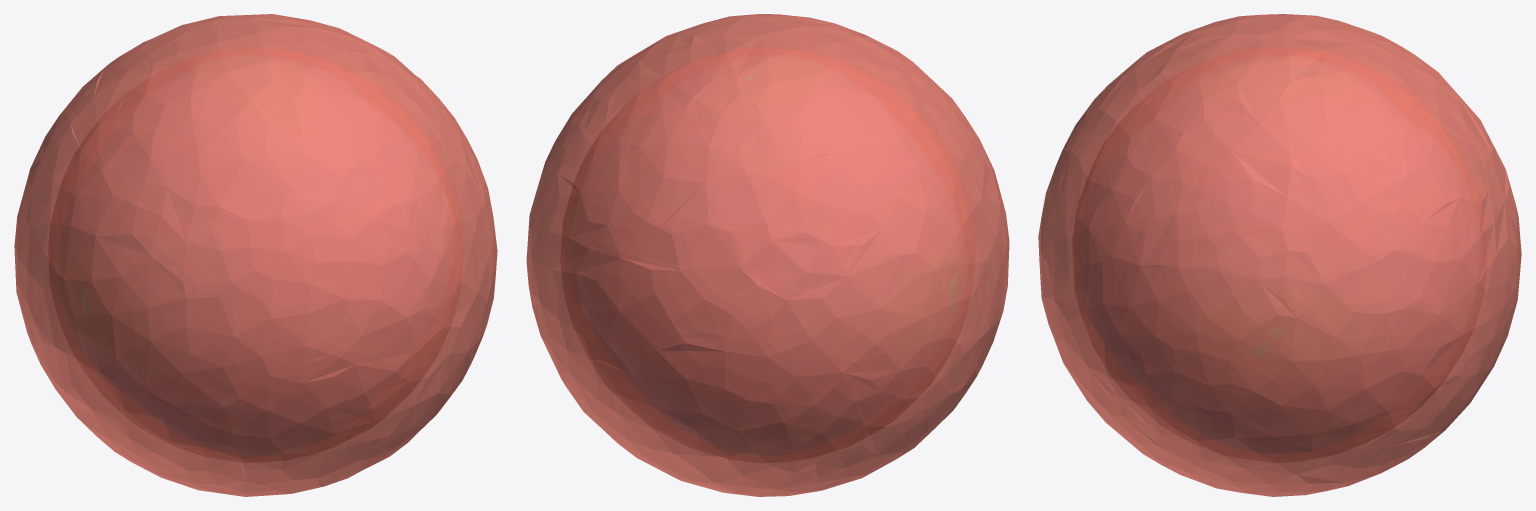
File: orbital.glb
3 views of the same model, side by side, from view 1: azimuth 30°, elevation 25°; view 2: azimuth 150°, elevation 25°; view 3: azimuth 270°, elevation 25° (orthographic).
Visible parts, largest first — view 1: Np_n7_s_ml0_node, Np_n6_s_ml0_node; view 2: Np_n7_s_ml0_node, Np_n6_s_ml0_node; view 3: Np_n7_s_ml0_node, Np_n6_s_ml0_node.
Part boxes in pixels (x1=…): Np_n7_s_ml0_node: x1=14, y1=14, x2=497, y2=496; Np_n6_s_ml0_node: x1=48, y1=48, x2=463, y2=462; Np_n7_s_ml0_node: x1=526, y1=14, x2=1009, y2=496; Np_n6_s_ml0_node: x1=560, y1=48, x2=975, y2=462; Np_n7_s_ml0_node: x1=1038, y1=14, x2=1521, y2=496; Np_n6_s_ml0_node: x1=1072, y1=48, x2=1487, y2=462.
Size of the model in its own units: 3.55 by 3.56 by 3.55.
